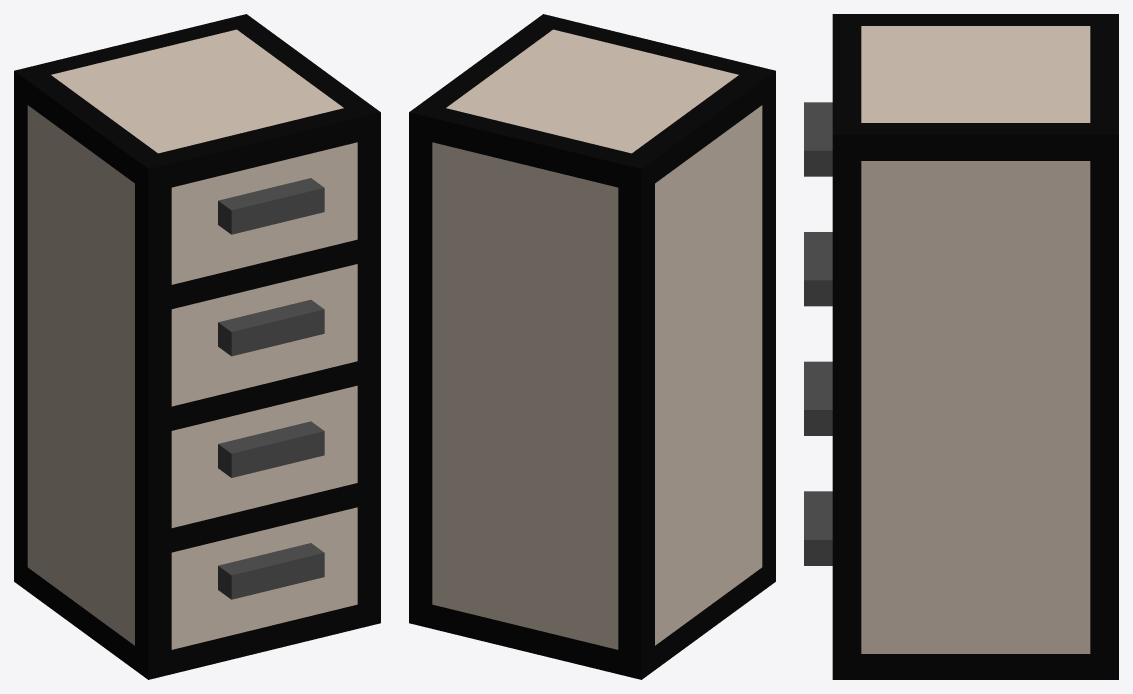
Rendered from Bedside table3.obj.
3 renders of one model, left to right at view 1: azimuth 30°, elevation 25°; view 2: azimuth 150°, elevation 25°; view 3: azimuth 270°, elevation 25°, orthographic. The views are drawn at different scales.
Bounding box in the file's own units: 1 × 2.1 × 1.1.
Materials: 1 (1 with a texture image).
